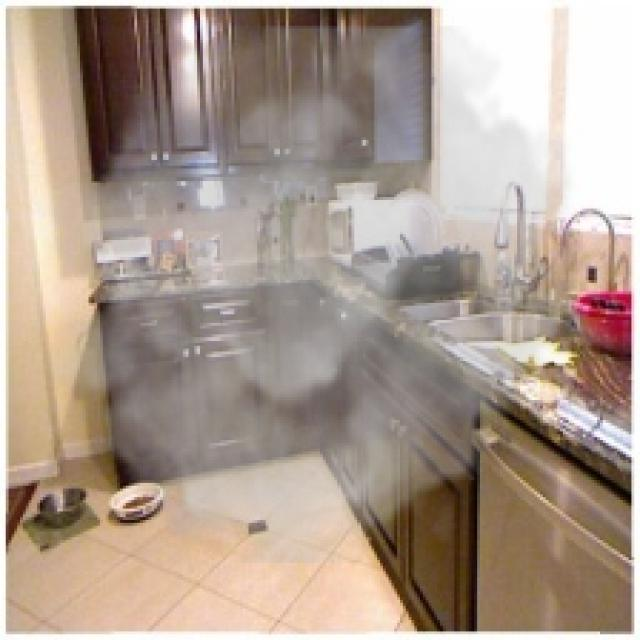Smoke: (42, 26, 592, 563)
